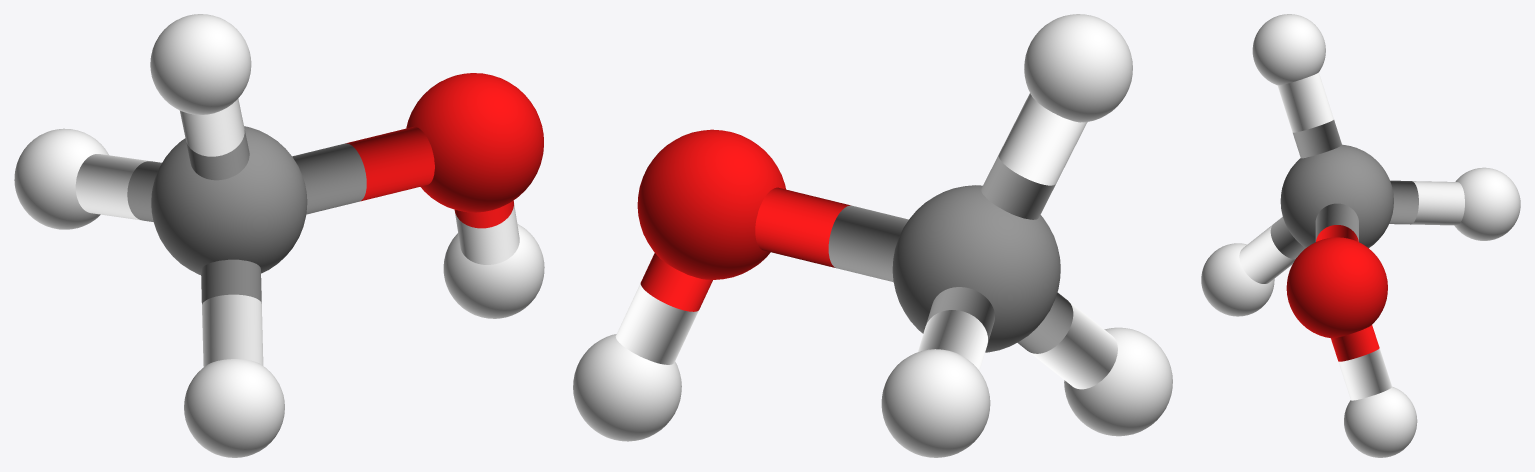
Rendered from Methanol.obj.
3 views of the same model, side by side, from view 1: azimuth 30°, elevation 25°; view 2: azimuth 150°, elevation 25°; view 3: azimuth 270°, elevation 25° (orthographic). The views are drawn at different scales.
Visible parts, largest first — view 1: C2_Atom, O1_Atom, H5_Atom, H3_Atom, H4_Atom, H6_Atom, Cylinder9, Cylinder6, Cylinder10, Cylinder4, Cylinder2, Cylinder8 (+4 smaller); view 2: C2_Atom, O1_Atom, H4_Atom, H5_Atom, H6_Atom, H3_Atom, Cylinder9, Cylinder2, Cylinder10, Cylinder8, Cylinder6, Cylinder4 (+4 smaller); view 3: O1_Atom, C2_Atom, H5_Atom, H6_Atom, H4_Atom, H3_Atom, Cylinder2, Cylinder4, Cylinder8, Cylinder6, Cylinder1, Cylinder7 (+4 smaller).
Part boxes in pixels (x1,y1,x2,y2): C2_Atom: (151,126,307,274); O1_Atom: (406,73,543,212); H5_Atom: (150,14,251,114); H3_Atom: (184,359,284,457); H4_Atom: (14,128,108,229); H6_Atom: (443,224,544,318); Cylinder9: (345,126,434,201); Cylinder6: (202,294,263,366); Cylinder10: (292,143,366,214); Cylinder4: (75,154,150,220); Cylinder2: (179,99,244,156); Cylinder8: (454,203,519,264); C2_Atom: (892,185,1060,352); O1_Atom: (637,129,785,279); H4_Atom: (881,349,990,457); H5_Atom: (1024,14,1132,122); H6_Atom: (573,334,681,441); H3_Atom: (1064,327,1172,436); Cylinder9: (755,187,850,267); Cylinder2: (998,93,1087,185); Cylinder10: (828,205,908,281); Cylinder8: (615,283,698,364); Cylinder6: (1028,301,1117,389); Cylinder4: (918,310,987,370); O1_Atom: (1286,237,1387,338); C2_Atom: (1280,144,1393,247); H5_Atom: (1252,14,1325,85); H6_Atom: (1344,386,1417,457); H4_Atom: (1454,167,1520,240); H3_Atom: (1201,243,1274,316); Cylinder2: (1277,72,1333,132); Cylinder4: (1411,181,1464,225); Cylinder8: (1338,348,1391,400); Cylinder6: (1239,225,1295,283); Cylinder1: (1293,120,1341,158); Cylinder7: (1331,325,1379,361).
Bounding box in the file's own units: 2.57 × 2.36 × 2.2.
